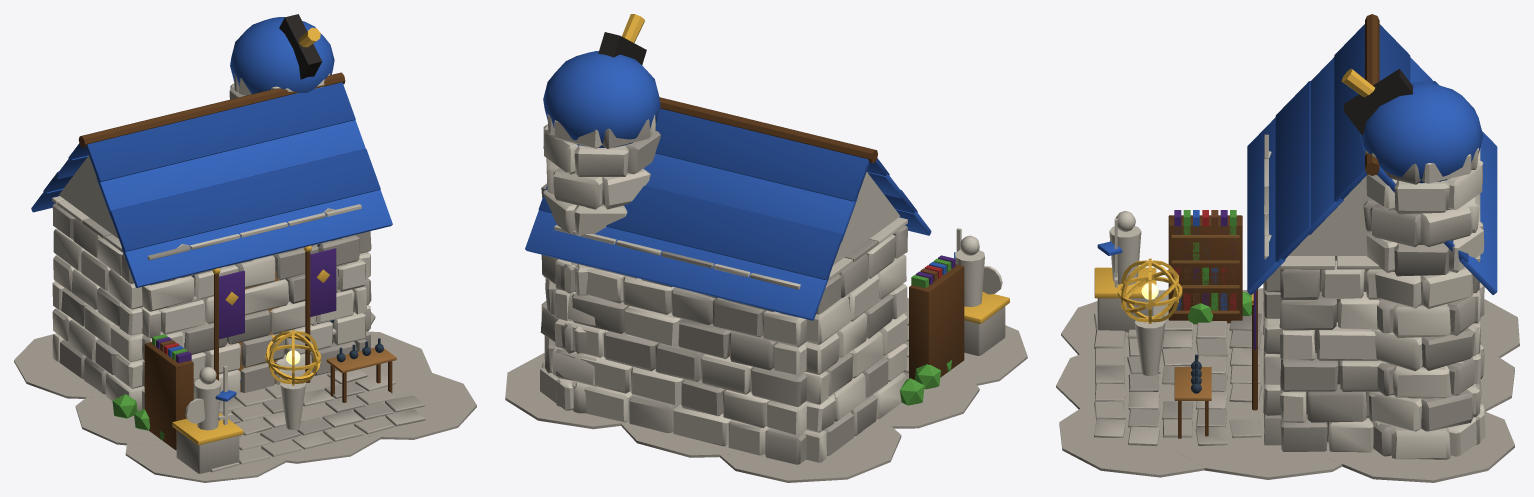
Rendered from akademia_poz15.glb.
3 renders of one model, left to right at view 1: azimuth 30°, elevation 25°; view 2: azimuth 150°, elevation 25°; view 3: azimuth 270°, elevation 25°, orthographic. The views are drawn at different scales.
Visible parts, largest first — view 1: akademia_poz15; view 2: akademia_poz15; view 3: akademia_poz15.
Boxes of the visible parts, x1=… form: akademia_poz15: x1=14, y1=14, x2=476, y2=482; akademia_poz15: x1=505, y1=14, x2=1027, y2=482; akademia_poz15: x1=1056, y1=14, x2=1519, y2=482.
Size of the model in its own units: 7.44 by 6.7 by 7.51.
